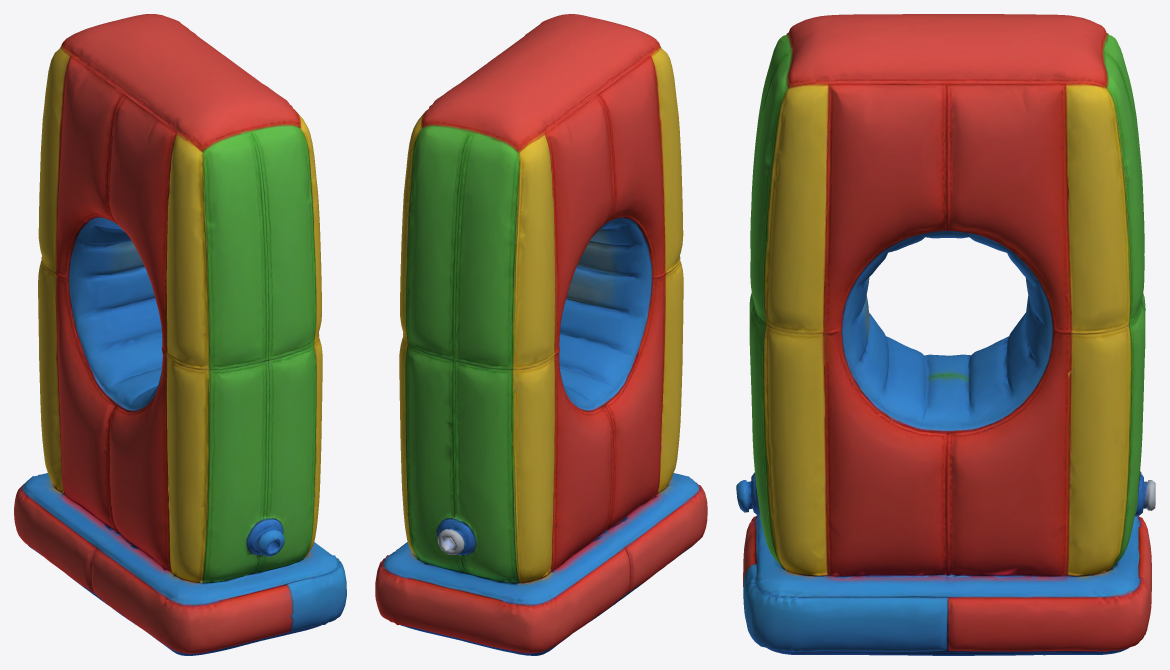
File: piston_wall.glb
The picture shows the model from 3 angles, left to right: view 1: azimuth 30°, elevation 25°; view 2: azimuth 150°, elevation 25°; view 3: azimuth 270°, elevation 25°; orthographic projection. The views are drawn at different scales.
Visible parts, largest first — view 1: tripo_node_5afc26b7-3a11-4916-be92-ed064ac5ddcc; view 2: tripo_node_5afc26b7-3a11-4916-be92-ed064ac5ddcc; view 3: tripo_node_5afc26b7-3a11-4916-be92-ed064ac5ddcc.
Boxes of the visible parts, x1,y1,x2,y2 form: tripo_node_5afc26b7-3a11-4916-be92-ed064ac5ddcc: [14, 14, 346, 655]; tripo_node_5afc26b7-3a11-4916-be92-ed064ac5ddcc: [375, 14, 707, 655]; tripo_node_5afc26b7-3a11-4916-be92-ed064ac5ddcc: [736, 14, 1155, 655].
Size of the model in its own units: 0.3628 by 1 by 0.6422.
Materials: 1 (1 with a texture image).
